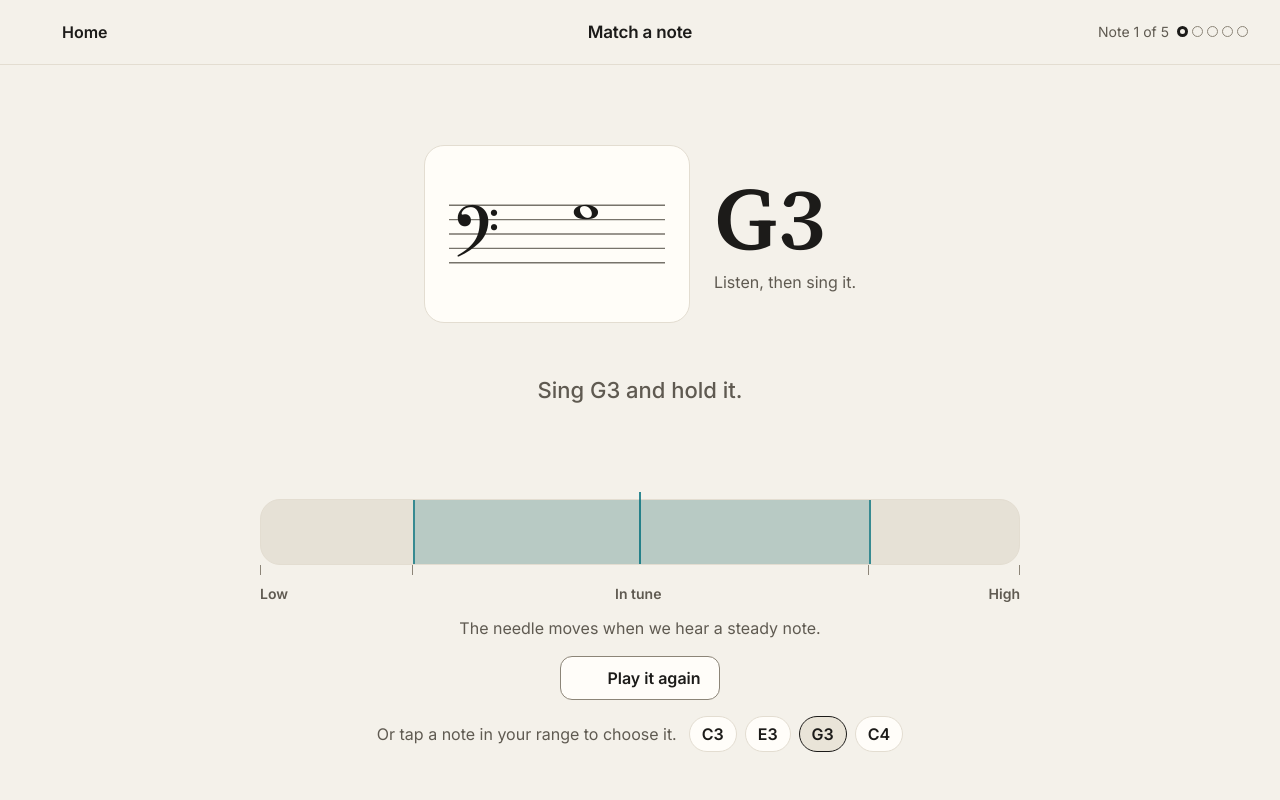
Match a note › a chosen chip plays that note and stays after a hit
The width and height of the screenshot is (1280, 800).
Step 1. Click the button with class "mt-chip" showing "E3" → click(768, 734), box [745,716,791,752]
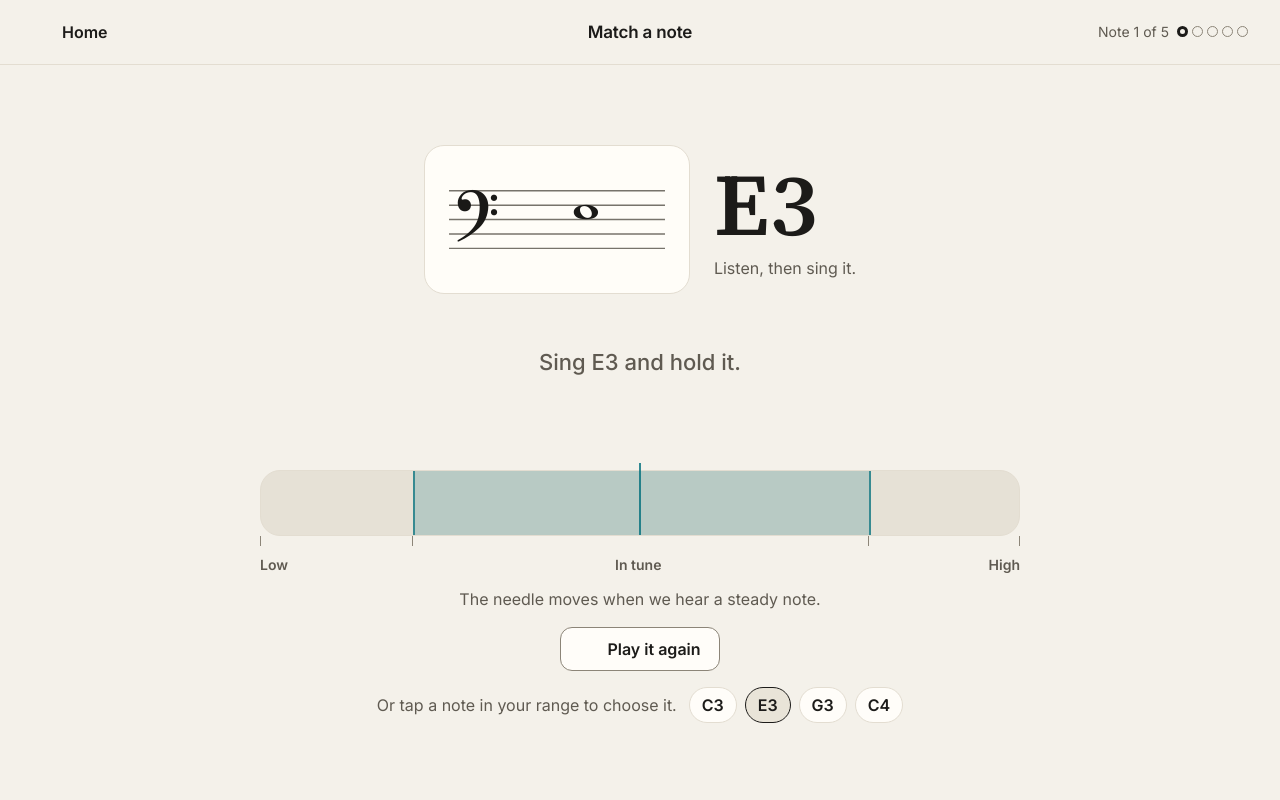
Expected: the button with class "mt-chip" is pressed, [745,687,791,723]
